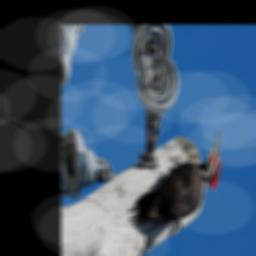Woodpecker: (120, 121, 234, 256)
